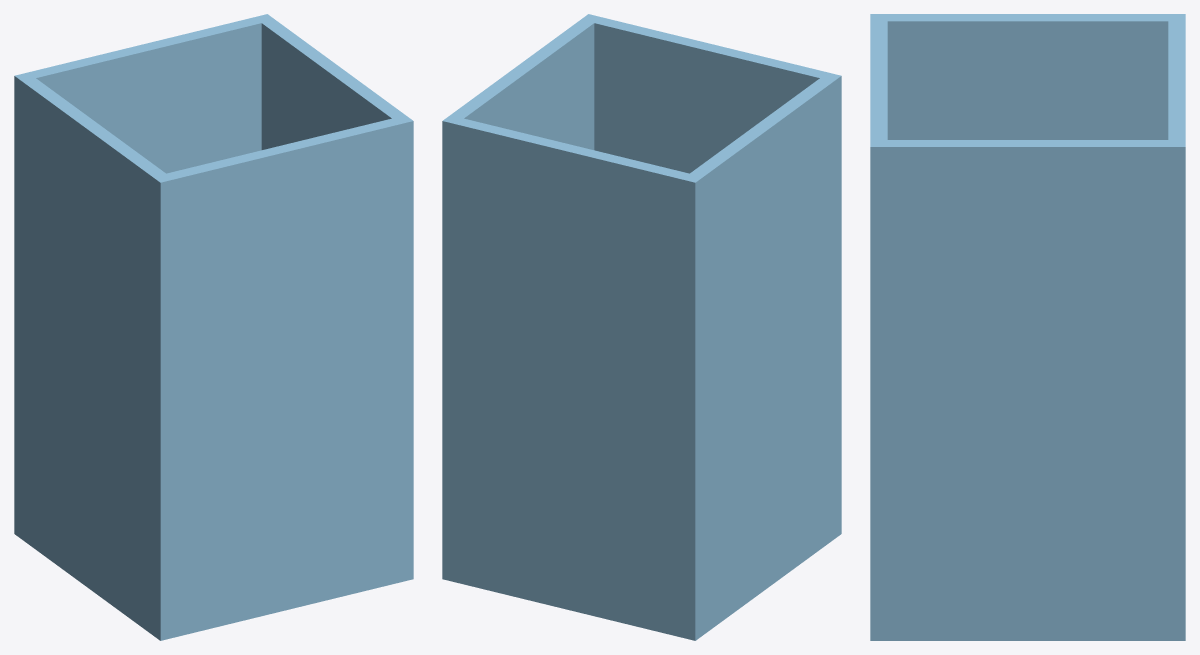
The picture shows the model from 3 angles, left to right: view 1: azimuth 30°, elevation 25°; view 2: azimuth 150°, elevation 25°; view 3: azimuth 270°, elevation 25°; orthographic projection. The views are drawn at different scales.
Visible parts, largest first — view 1: 5c86a3f674c1b61d4c54748b; view 2: 5c86a3f674c1b61d4c54748b; view 3: 5c86a3f674c1b61d4c54748b.
Boxes of the visible parts, x1,y1,x2,y2 form: 5c86a3f674c1b61d4c54748b: [14, 14, 413, 640]; 5c86a3f674c1b61d4c54748b: [442, 14, 841, 640]; 5c86a3f674c1b61d4c54748b: [870, 14, 1185, 640].
Size of the model in its own units: 0.185 by 0.185 by 0.32.
